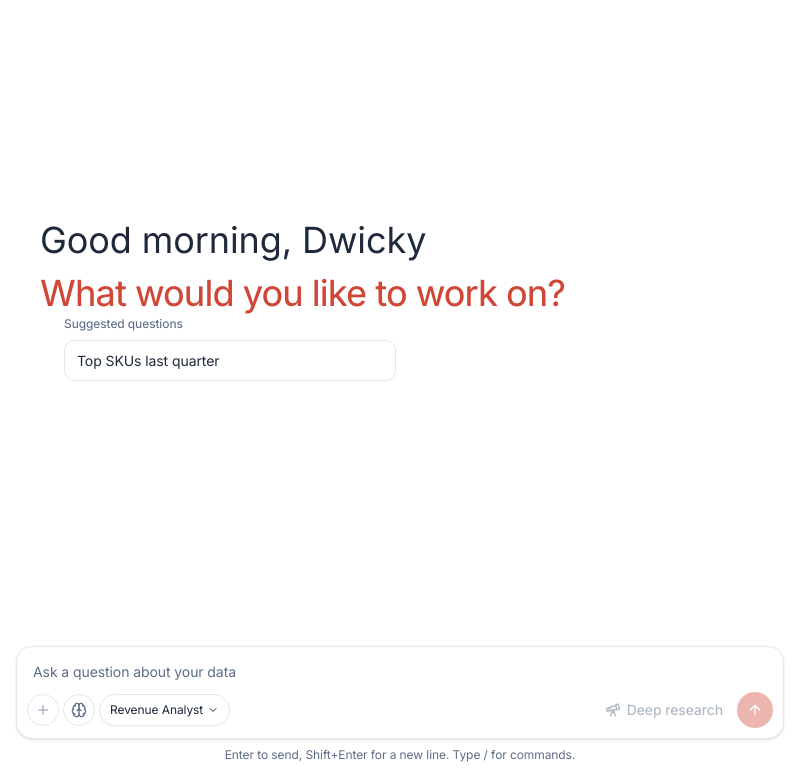
Test: sends once when repeated Enter waits for an interactive state flush
In the text box named "Message Nova": coordinates (400, 670) [17,647,783,692], type "Review results"
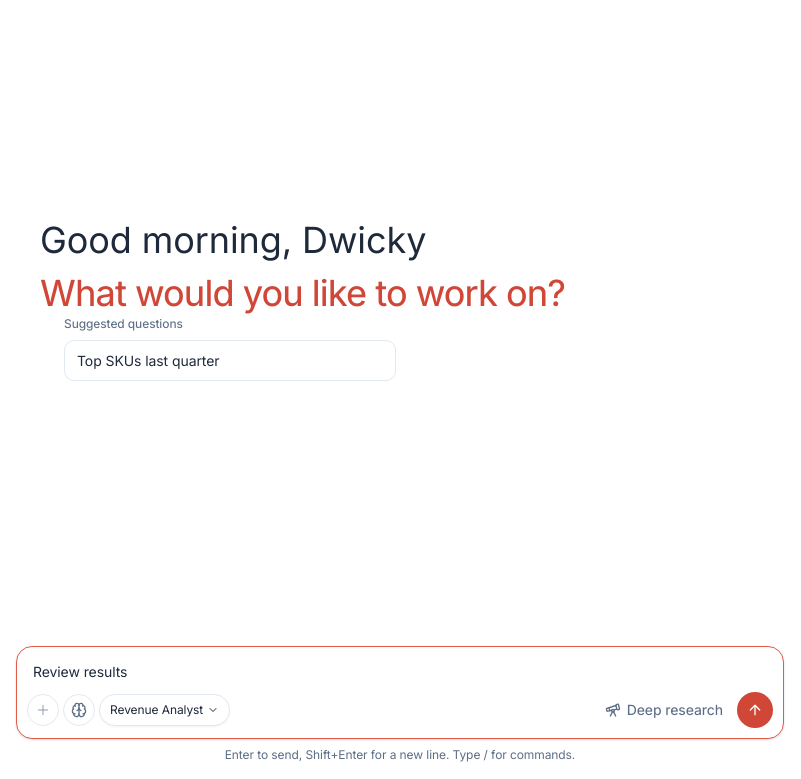
Press Enter Enter
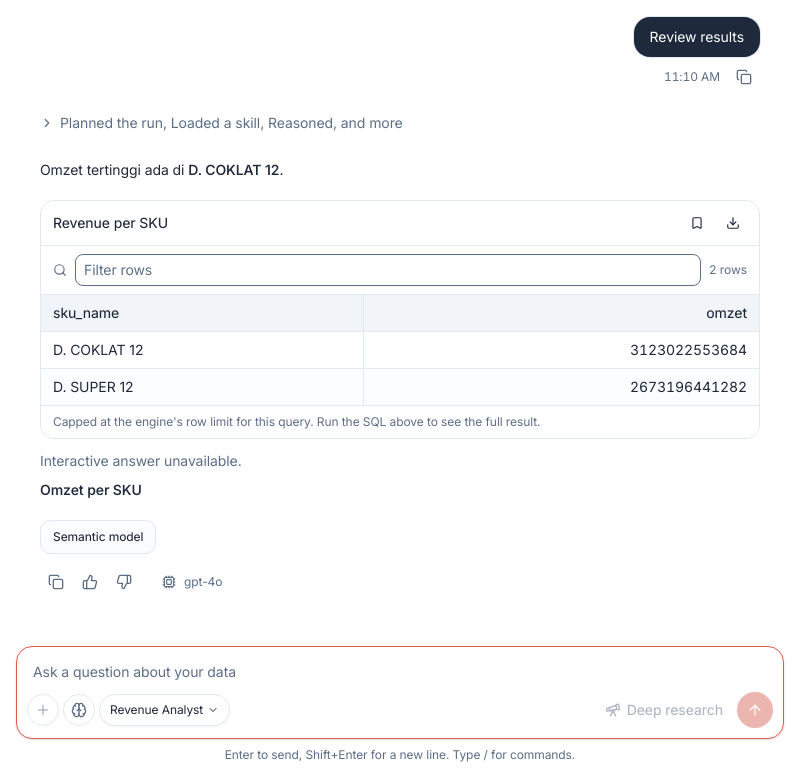
Result: the text "Omzet tertinggi ada di D. COKLAT 12." is shown at [40,161,283,178]
